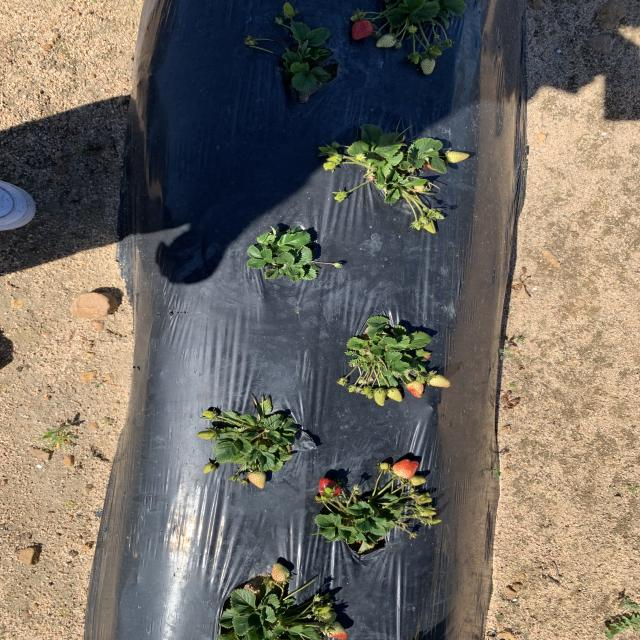unripe: (350, 16, 374, 41), (393, 457, 417, 480), (316, 478, 343, 497)
